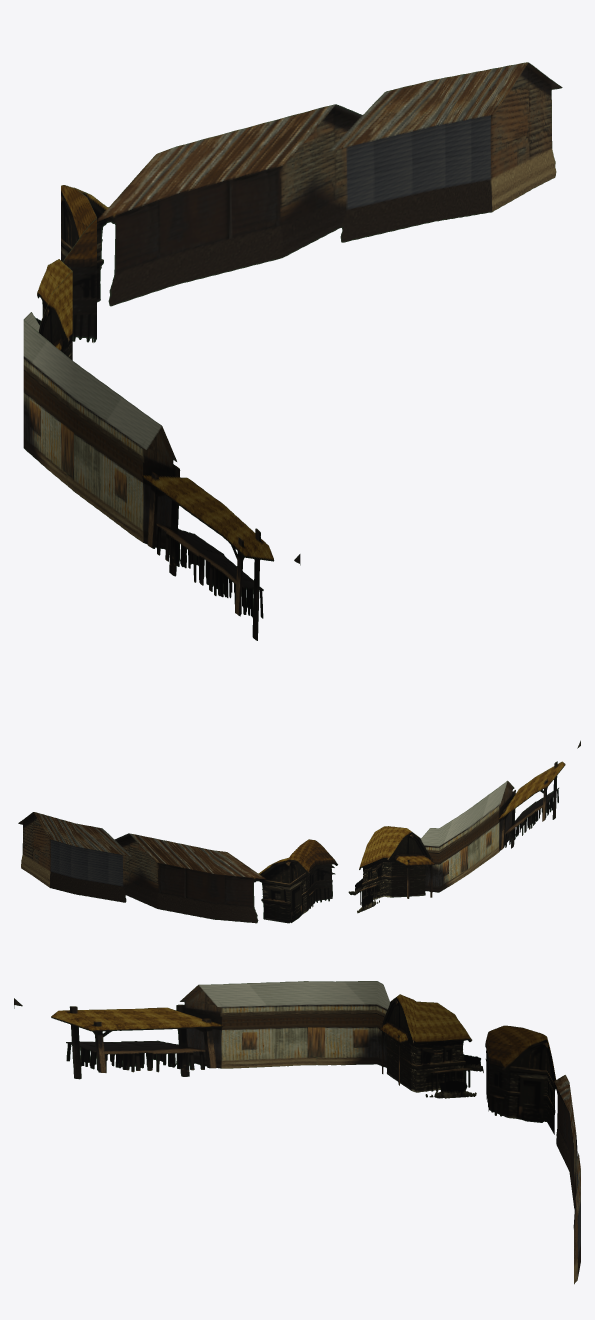
Rendered from housesCanvas.fbx.
3 renders of one model, top to bottom at view 1: azimuth 30°, elevation 25°; view 2: azimuth 150°, elevation 25°; view 3: azimuth 270°, elevation 25°, orthographic. The views are drawn at different scales.
Parts seen in each view (by area): view 1: Plane.008; view 2: Plane.008; view 3: Plane.008.
Boxes of the visible parts, <box> form: Plane.008: <box>23,62,562,640</box>; Plane.008: <box>18,740,580,923</box>; Plane.008: <box>14,981,580,1284</box>.
Bounding box in the file's own units: 17.17 × 4.29 × 18.53.
1 material, 1 textured.
